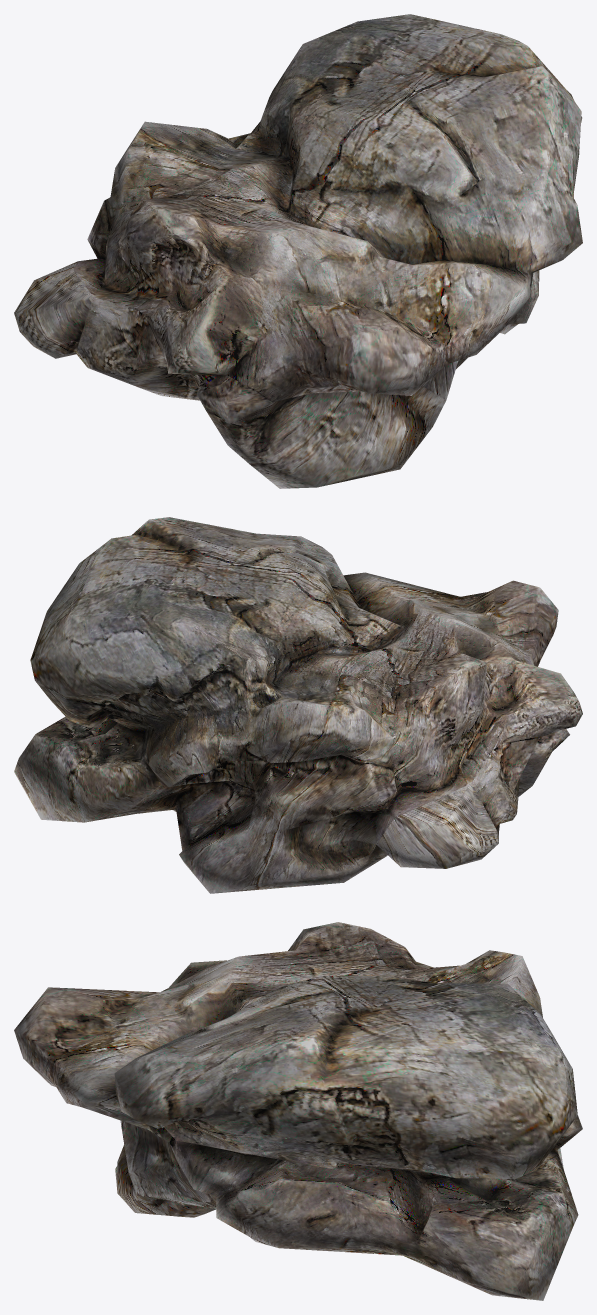
File: TRP_Rock big.FBX
3 renders of one model, top to bottom at view 1: azimuth 30°, elevation 25°; view 2: azimuth 150°, elevation 25°; view 3: azimuth 270°, elevation 25°, orthographic. The views are drawn at different scales.
Parts seen in each view (by area): view 1: Rock ENVIROMENT 1uv; view 2: Rock ENVIROMENT 1uv; view 3: Rock ENVIROMENT 1uv.
Boxes of the visible parts, <box> form: Rock ENVIROMENT 1uv: <box>14,14,582,488</box>; Rock ENVIROMENT 1uv: <box>14,517,582,893</box>; Rock ENVIROMENT 1uv: <box>14,922,582,1300</box>.
Bounding box in the file's own units: 78.99 × 76.73 × 44.72.
1 material, 1 textured.
